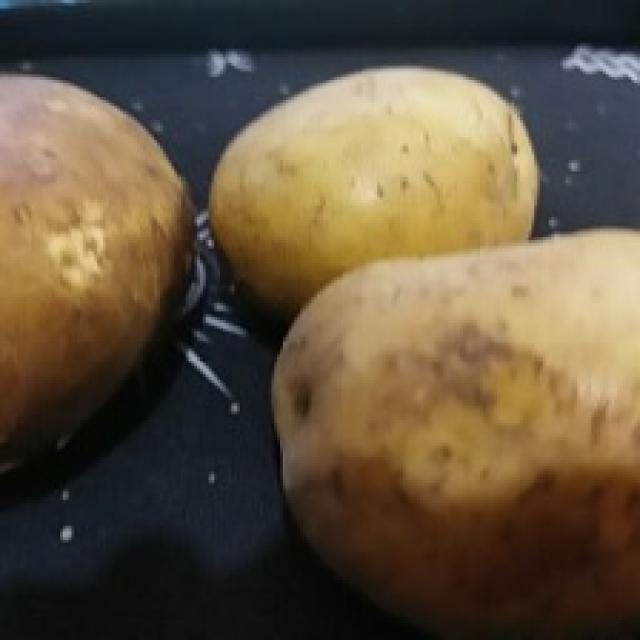Potato: (269, 229, 640, 640), (208, 67, 541, 351), (0, 72, 196, 478)
